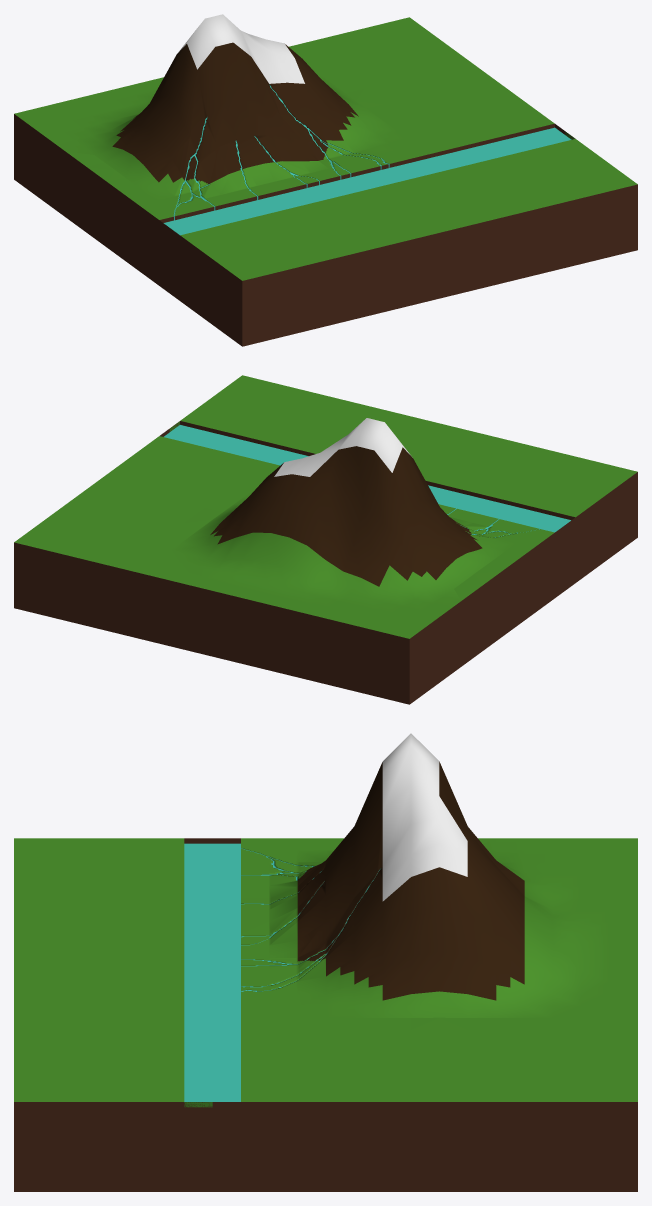
Rendered from terrain-rivers1.fbx.
3 views of the same model, one above another, from view 1: azimuth 30°, elevation 25°; view 2: azimuth 150°, elevation 25°; view 3: azimuth 270°, elevation 25° (orthographic). The views are drawn at different scales.
Visible parts, largest first — view 1: Plane; view 2: Plane; view 3: Plane.
Part boxes in pixels (x1,y1,x2,y2): Plane: (14,14,637,346); Plane: (14,375,637,704); Plane: (14,733,637,1191).
Size of the model in its own units: 687 by 324 by 687.
